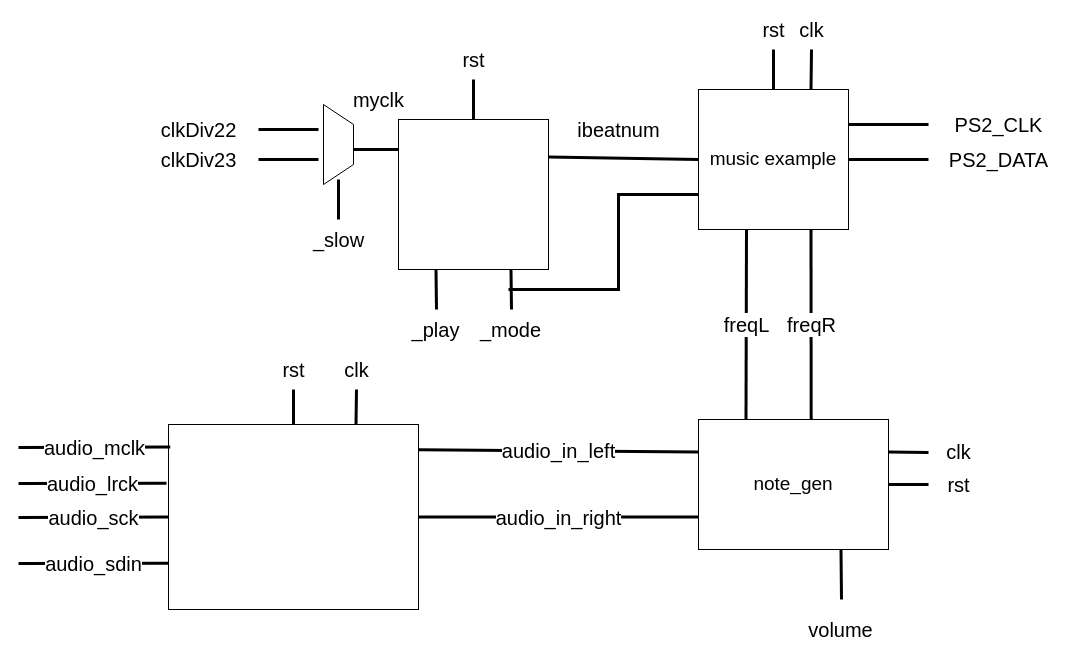
Image size: 1065x659. Some labels were removed from this diagram. The shapes that lost their labels are listed below. From the top down, each one's centre as x and y in pixels, then its label:
At [473,194]: "player control".
At [293,517]: "speaker_control".
